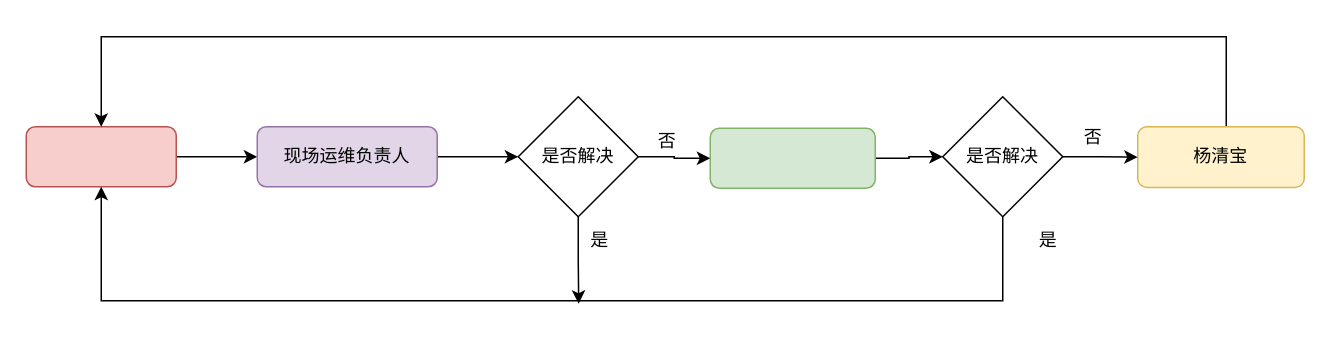
This 1331x342 diagram has some shape labels left out. The shapes that lost their labels are listed below. From the top down, each one's box as (x1, y1, x2, y2) in pixels, then its label:
(25, 125, 176, 187): 现场实施/运维
(709, 127, 875, 188): 王冠林
